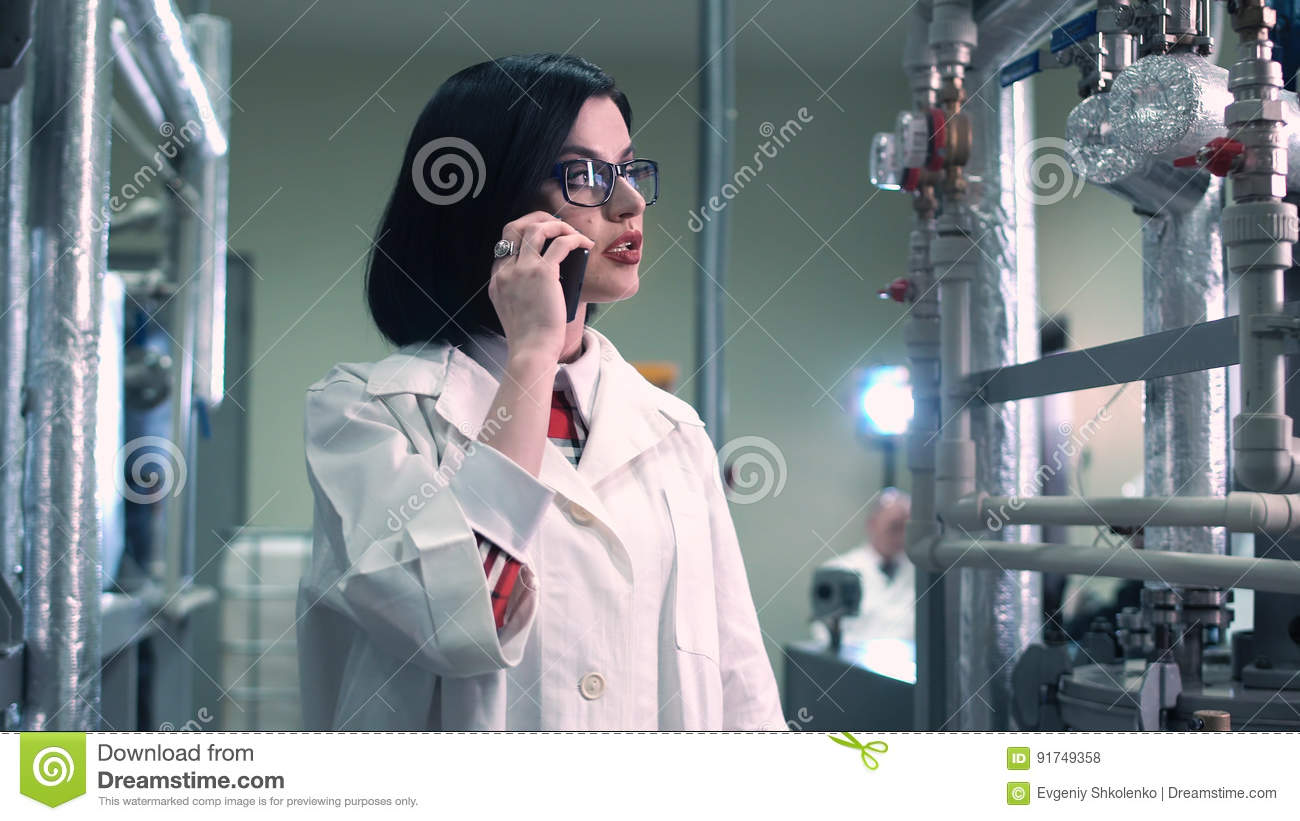phone: (507, 206, 588, 346)
talk: (486, 132, 655, 391)
